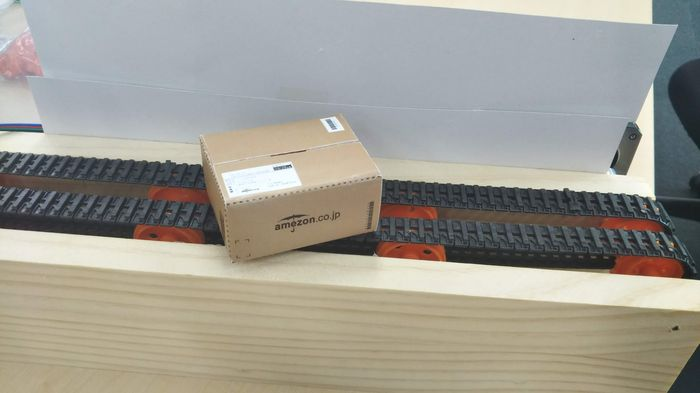box1: (194, 107, 384, 267)
